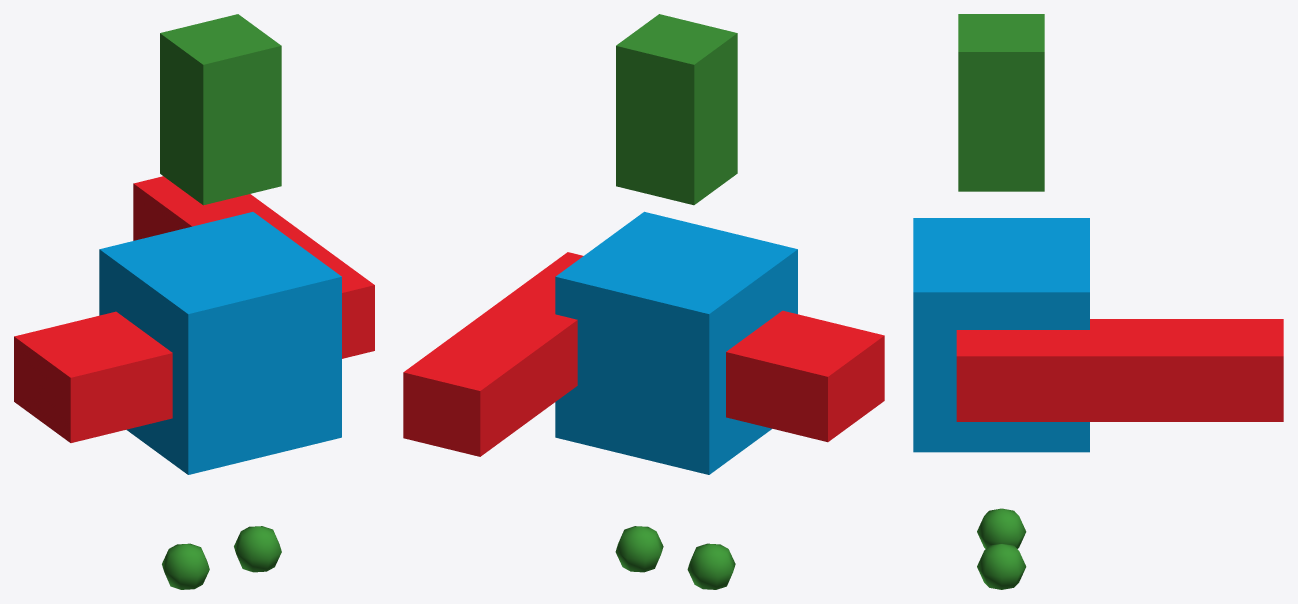
Rendered from Cubes.FBX.
The picture shows the model from 3 angles, left to right: view 1: azimuth 30°, elevation 25°; view 2: azimuth 150°, elevation 25°; view 3: azimuth 270°, elevation 25°; orthographic projection.
Parts seen in each view (by area): view 1: Base, Head, LeftLimb, RightLimb, RightFoot, LeftFoot; view 2: Base, RightLimb, Head, LeftLimb, LeftFoot, RightFoot; view 3: RightLimb, Base, Head, RightFoot, LeftFoot.
Part boxes in pixels (x1,y1,x2,y2): Base: (99,212,341,474); Head: (160,14,281,205); LeftLimb: (14,311,172,442); RightLimb: (133,176,374,358); RightFoot: (234,526,281,572); LeftFoot: (162,543,209,589); Base: (555,211,797,474); RightLimb: (403,252,583,456); Head: (616,14,737,205); LeftLimb: (726,310,884,442); LeftFoot: (687,543,735,589); RightFoot: (615,526,663,572); RightLimb: (956,319,1283,421); Base: (913,218,1089,452); Head: (958,14,1044,191); RightFoot: (977,543,1026,589); LeftFoot: (977,508,1026,548).
Size of the model in its own units: 6.24 by 6.48 by 10.4.
